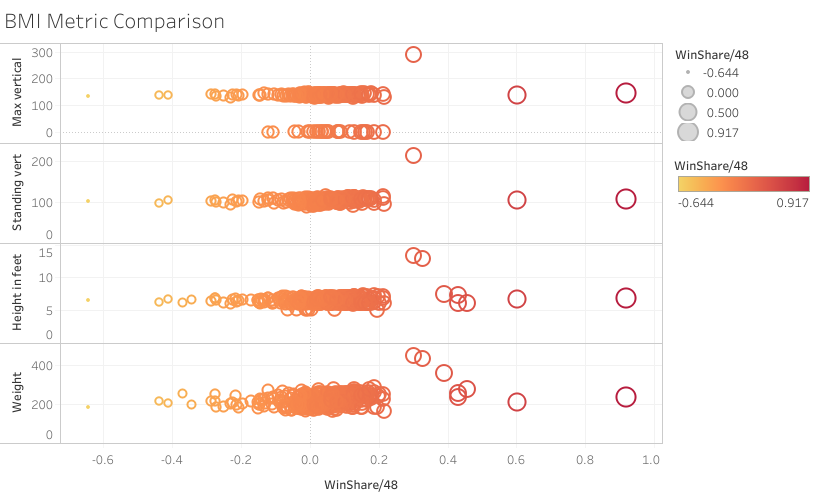

This screenshot's page, from the dashboard's own definition file:
{"tool":"tableau","page":{"name":"Dashboard 1","canvas":[1000,800],"ordinal":0},"visuals":[{"type":"worksheet","title":"Sheet 1","mark":"Automatic","rows":["weight"],"cols":["position","NBA_fg_per_game"],"box":[8,8,492,784]},{"type":"worksheet","title":"Sheet 3","mark":"Automatic","box":[500,8,492,392]},{"type":"worksheet","title":"Sheet 2","mark":"Square","rows":["Draft_age"],"cols":["WingSpan"],"box":[500,400,492,392]}]}

Visuals, with their boxes on the page's 1000x800 design canvas (x1, y1, x2, y2). These are canvas units, not pixel positions in the 814x501 screenshot, which may show the page scaled, cropped or inside an application window:
"Sheet 1" worksheet: {"left": 8, "top": 8, "right": 500, "bottom": 792}
"Sheet 3" worksheet: {"left": 500, "top": 8, "right": 992, "bottom": 400}
"Sheet 2" worksheet (Square marks): {"left": 500, "top": 400, "right": 992, "bottom": 792}
